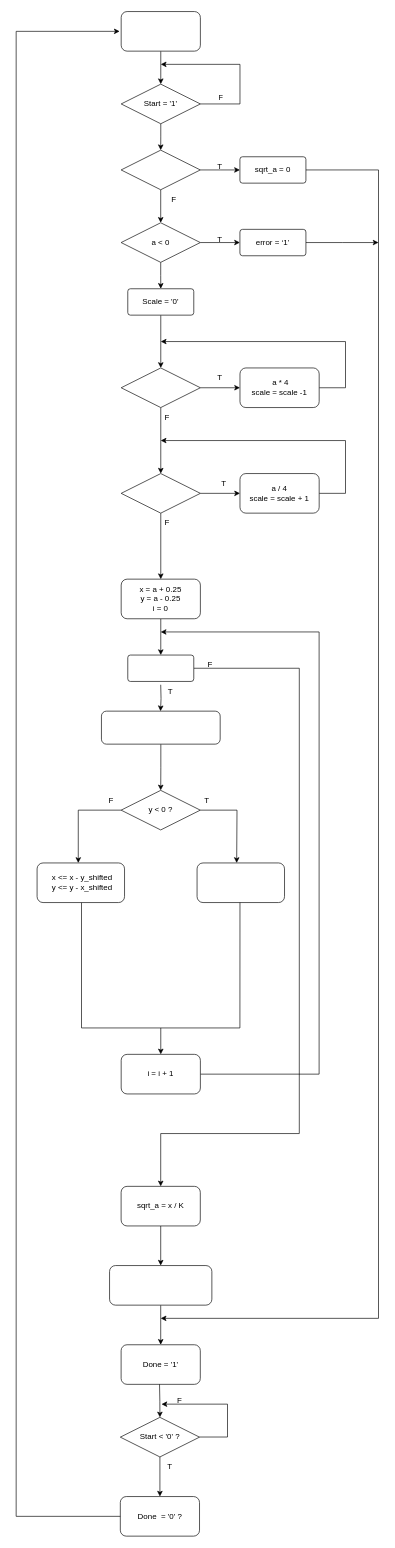
Some shapes in this 395 by 1548 pixel diagram are drawn without their labels. The shapes that lost their labels are listed below. From the top down, each one's box as (x1, y1, x2, y2) in pixels, then its label:
(121, 11, 200, 51): Done = '0'
(120, 149, 200, 190): a == 0
(121, 367, 200, 408): a < 0.5
(121, 473, 200, 513): a >= 2
(127, 654, 194, 681): i < N ?
(101, 710, 220, 744): x_shifted := shift_right(x, i); y_shifted := shift_right(y, i);
(196, 862, 285, 903): x <= x + y_shifted y <= y + x_shifted
(109, 1265, 212, 1305): sqrt_a = sqrt_a * (2^scale)
